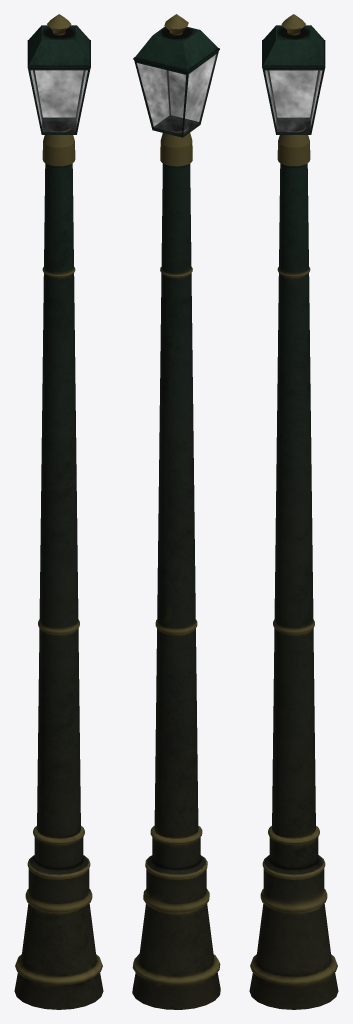
The picture shows the model from 3 angles, left to right: view 1: azimuth 90°, elevation 25°; view 2: azimuth 150°, elevation 25°; view 3: azimuth 270°, elevation 25°; orthographic projection.
Parts seen in each view (by area): view 1: lamp_post; view 2: lamp_post; view 3: lamp_post.
Boxes of the visible parts, x1,y1,x2,y2 form: lamp_post: [14, 14, 103, 1009]; lamp_post: [132, 14, 220, 1009]; lamp_post: [249, 14, 338, 1009].
Bounding box in the file's own units: 43.19 × 523 × 43.19.
1 material, 1 textured.
